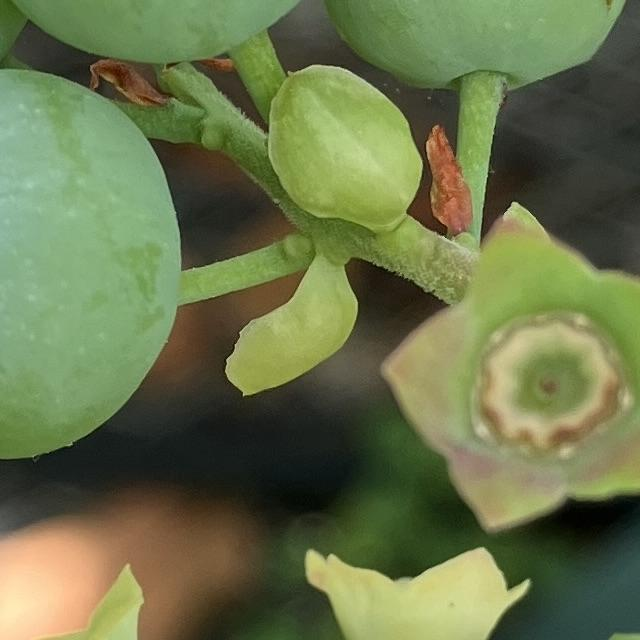Blueberries: (0, 63, 182, 467)
